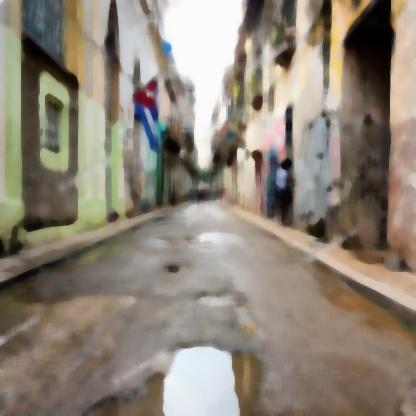Potholes: (115, 329, 271, 415)
